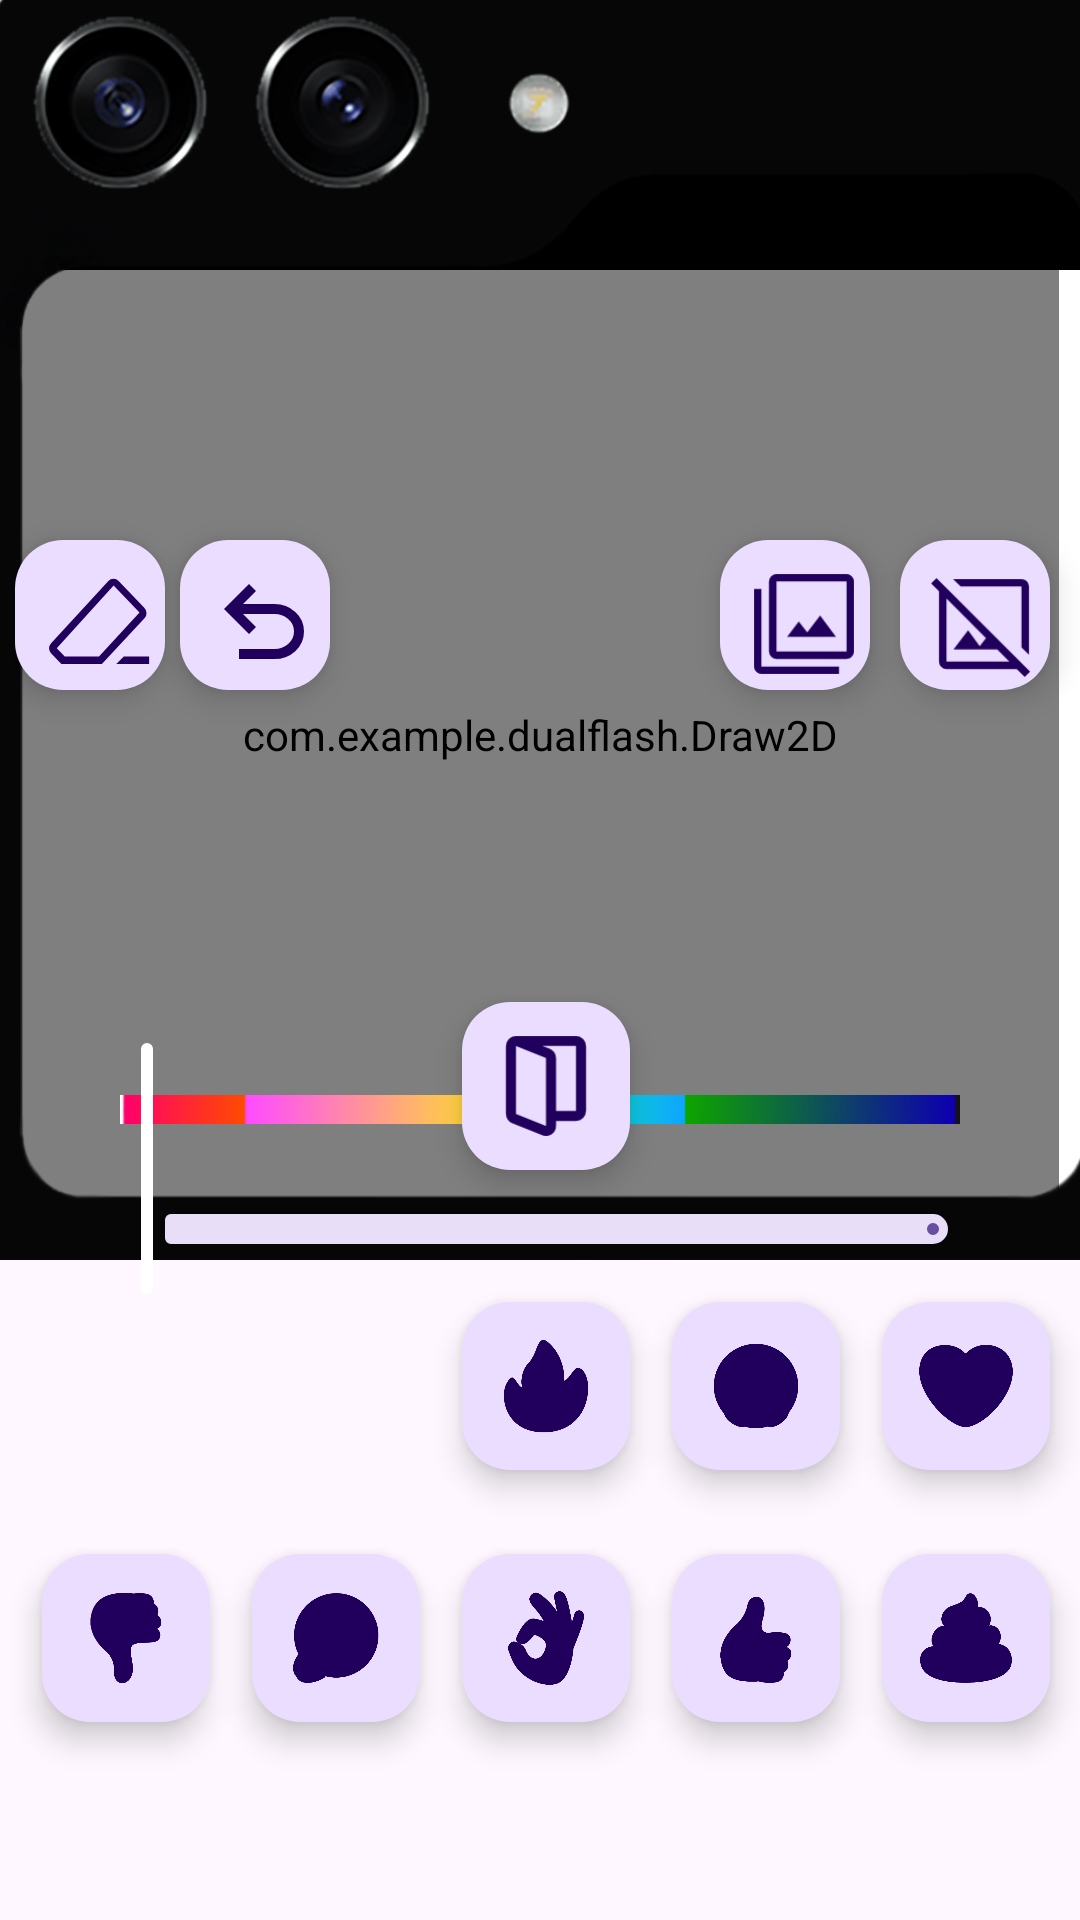

Screen size 1080px×1920px. Icon name, then its center in pixels as (x,y):
dual screen: (546,1086)
erase: (90,615)
hide: (975,615)
photo: (795,615)
undo: (255,615)
